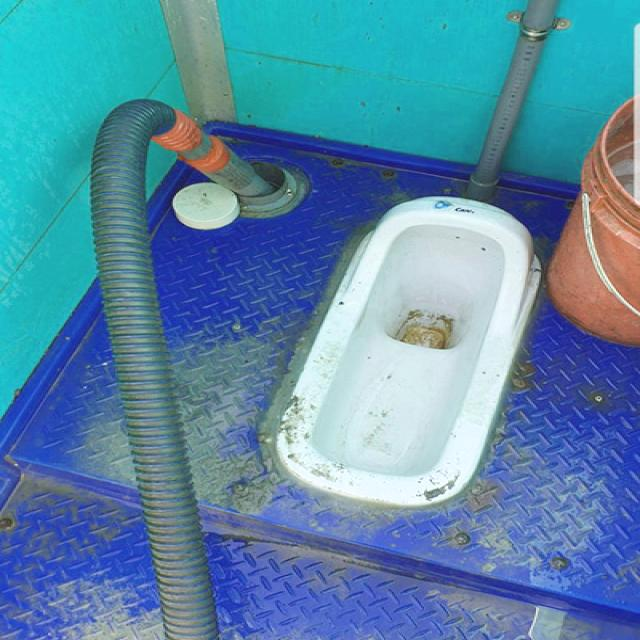dirty_area: (411, 346, 628, 581), (10, 361, 159, 639), (172, 338, 344, 527), (382, 283, 474, 369), (389, 442, 464, 502)
